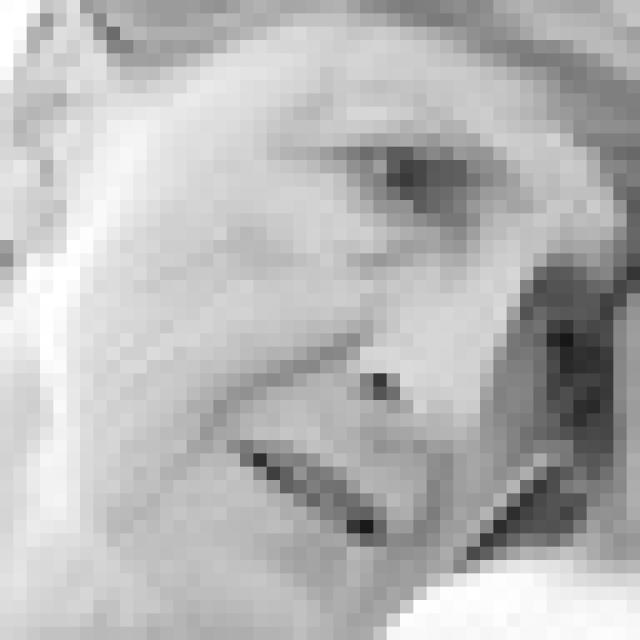sad: (170, 95, 596, 555)
